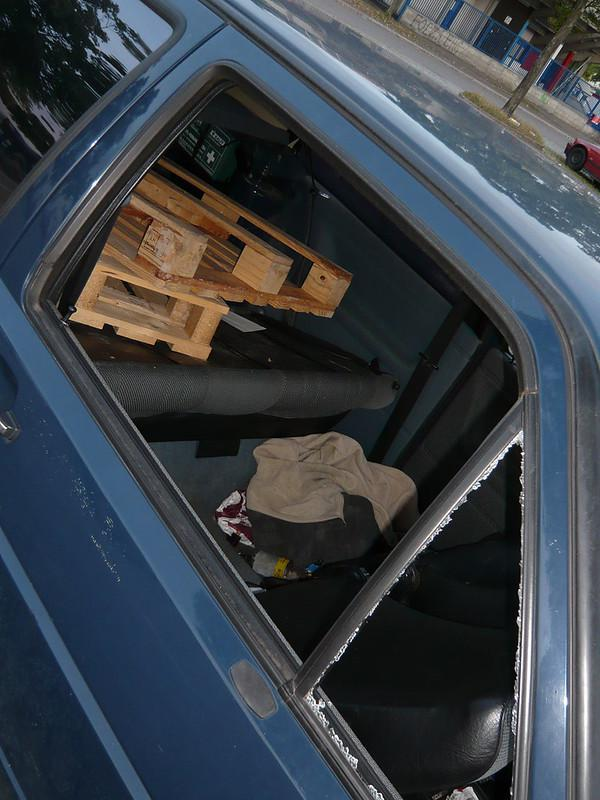doorouter-dent: (7, 466, 365, 799)
